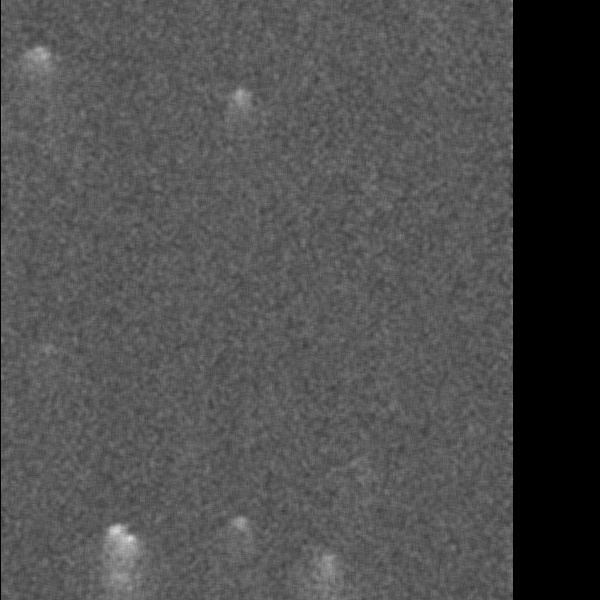spark: (101, 529, 143, 578), (12, 42, 56, 82), (228, 84, 252, 133), (227, 509, 252, 555), (316, 549, 338, 599)
